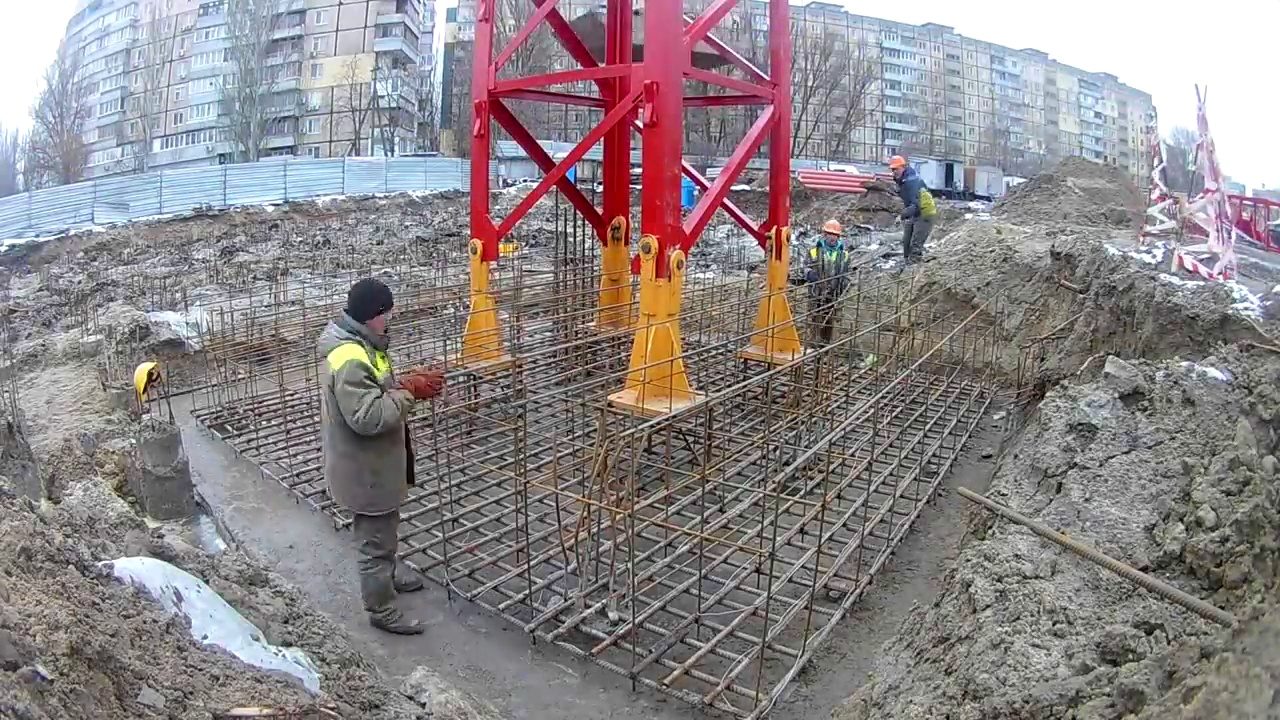helmet: (133, 359, 157, 404), (821, 220, 841, 236), (888, 157, 906, 169)
helmet-off: (337, 280, 393, 344)
helmet-on: (817, 220, 843, 250), (889, 158, 911, 183)
person: (321, 264, 443, 637), (798, 220, 851, 348), (888, 157, 937, 259)
